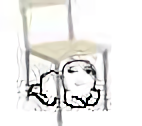dragon: (66, 65, 93, 87)
